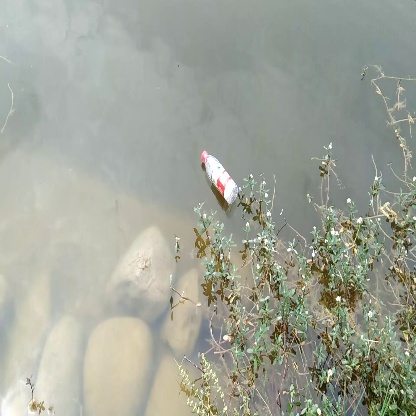bottle: (196, 145, 240, 208)
